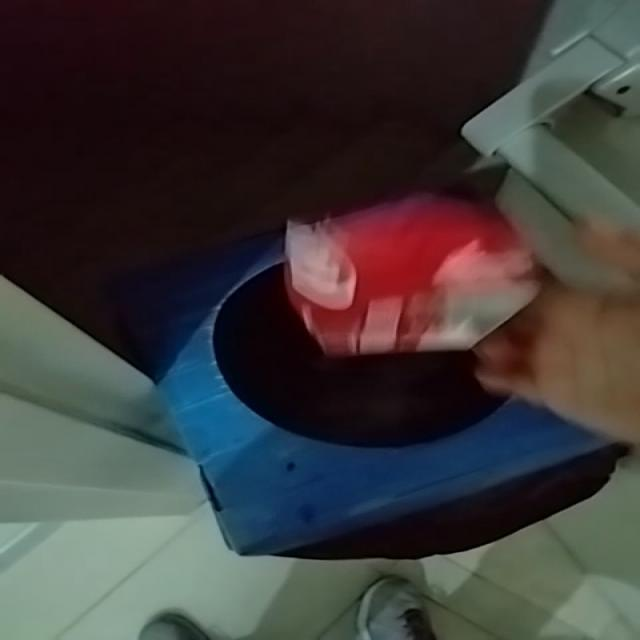bin: (104, 236, 623, 560)
metal: (285, 196, 540, 357)
